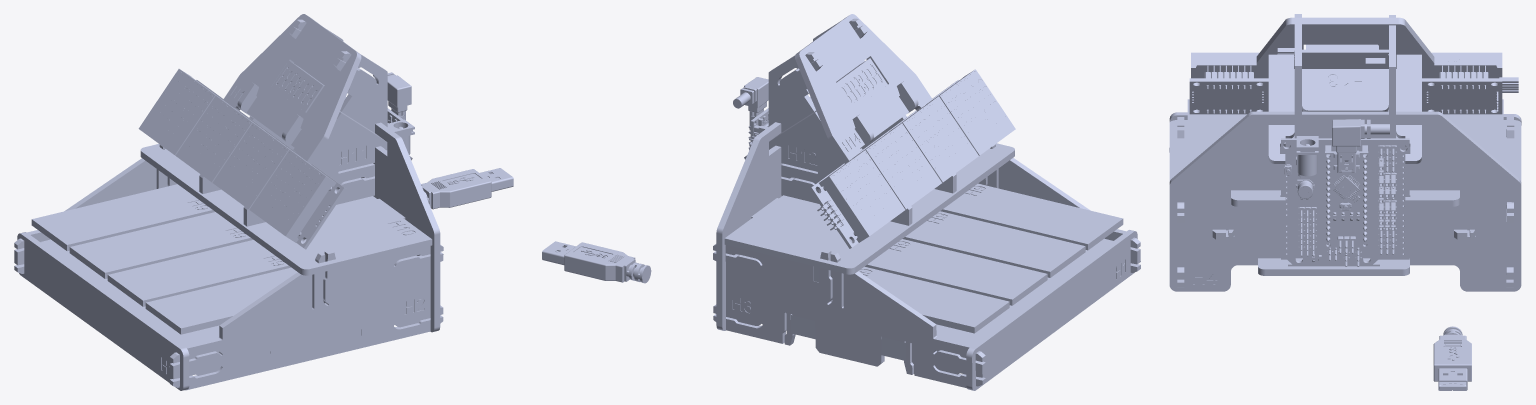
Rendered from pmg-guide.glb.
3 renders of one model, left to right at view 1: azimuth 30°, elevation 25°; view 2: azimuth 150°, elevation 25°; view 3: azimuth 270°, elevation 25°, orthographic. The views are drawn at different scales.
Visible parts, largest first — view 1: NAUO65, NAUO64, NAUO74, NAUO63, NAUO62, NAUO72, NAUO71, NAUO70, NAUO73, NAUO69, NAUO375, NAUO360 (+11 smaller); view 2: NAUO66, NAUO64, NAUO74, NAUO63, NAUO77, NAUO70, NAUO71, NAUO69, NAUO73, NAUO72, NAUO360, NAUO373 (+9 smaller); view 3: NAUO73, NAUO75, NAUO297, NAUO64, NAUO358, NAUO74, NANO, NAUO67, NAUO283, NAUO79, NAUO360, NAUO375 (+14 smaller).
Boxes of the visible parts, bbox=[...] form: NAUO65: bbox=[169, 245, 443, 390]; NAUO64: bbox=[140, 144, 432, 275]; NAUO74: bbox=[223, 14, 361, 164]; NAUO63: bbox=[17, 232, 189, 390]; NAUO62: bbox=[243, 51, 387, 226]; NAUO72: bbox=[31, 184, 214, 251]; NAUO71: bbox=[69, 212, 253, 278]; NAUO70: bbox=[107, 240, 291, 306]; NAUO73: bbox=[345, 97, 440, 332]; NAUO69: bbox=[145, 267, 297, 334]; NAUO375: bbox=[249, 150, 336, 242]; NAUO360: bbox=[138, 69, 223, 155]; NAUO66: bbox=[713, 244, 985, 388]; NAUO64: bbox=[724, 143, 1014, 274]; NAUO74: bbox=[795, 14, 932, 163]; NAUO63: bbox=[966, 230, 1137, 390]; NAUO77: bbox=[768, 52, 912, 225]; NAUO70: bbox=[902, 211, 1085, 277]; NAUO71: bbox=[865, 239, 1047, 305]; NAUO69: bbox=[940, 183, 1123, 250]; NAUO73: bbox=[716, 96, 811, 330]; NAUO72: bbox=[858, 266, 1009, 333]; NAUO360: bbox=[819, 150, 905, 242]; NAUO373: bbox=[857, 123, 941, 209]; NAUO73: bbox=[1169, 111, 1521, 291]; NAUO75: bbox=[1268, 54, 1421, 163]; NAUO297: bbox=[1281, 138, 1409, 265]; NAUO64: bbox=[1169, 120, 1521, 206]; NAUO358: bbox=[1189, 78, 1502, 114]; NAUO74: bbox=[1256, 17, 1434, 78]; NANO: bbox=[1325, 150, 1368, 253]; NAUO67: bbox=[1226, 209, 1506, 275]; NAUO283: bbox=[1433, 326, 1471, 390]; NAUO79: bbox=[1294, 44, 1388, 68]; NAUO360: bbox=[1431, 52, 1502, 78]; NAUO375: bbox=[1191, 52, 1259, 78].
Size of the model in its own units: 0.2349 by 0.1189 by 0.1458.
